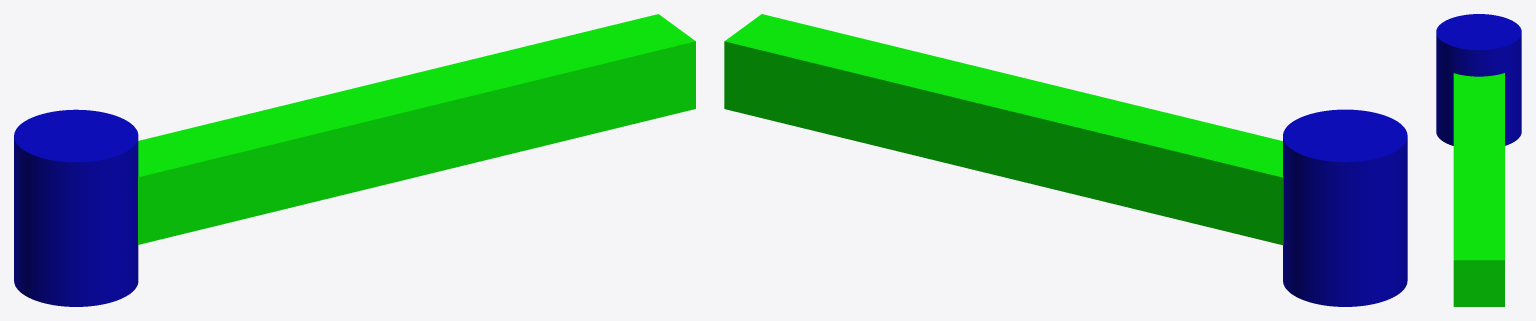
Rendered from linkone.obj.
3 renders of one model, left to right at view 1: azimuth 30°, elevation 25°; view 2: azimuth 150°, elevation 25°; view 3: azimuth 270°, elevation 25°, orthographic. The views are drawn at different scales.
Visible parts, largest first — view 1: Cube_Cube.004, Cylinder_Cylinder.002; view 2: Cube_Cube.004, Cylinder_Cylinder.002; view 3: Cube_Cube.004, Cylinder_Cylinder.002.
Part boxes in pixels (<box>): Cube_Cube.004: <box>138,14,695,244</box>; Cylinder_Cylinder.002: <box>14,109,138,306</box>; Cube_Cube.004: <box>724,14,1283,245</box>; Cylinder_Cylinder.002: <box>1283,109,1407,306</box>; Cube_Cube.004: <box>1453,73,1504,306</box>; Cylinder_Cylinder.002: <box>1436,14,1521,145</box>.
Size of the model in its own units: 304 by 64.15 by 50.
